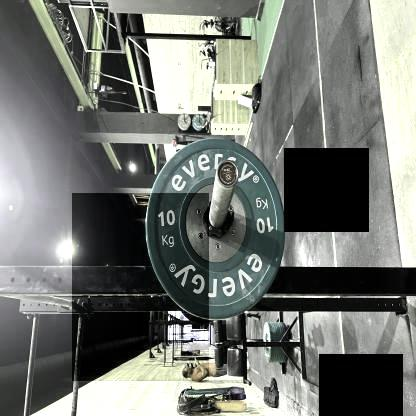barbell: (72, 193, 210, 381)
